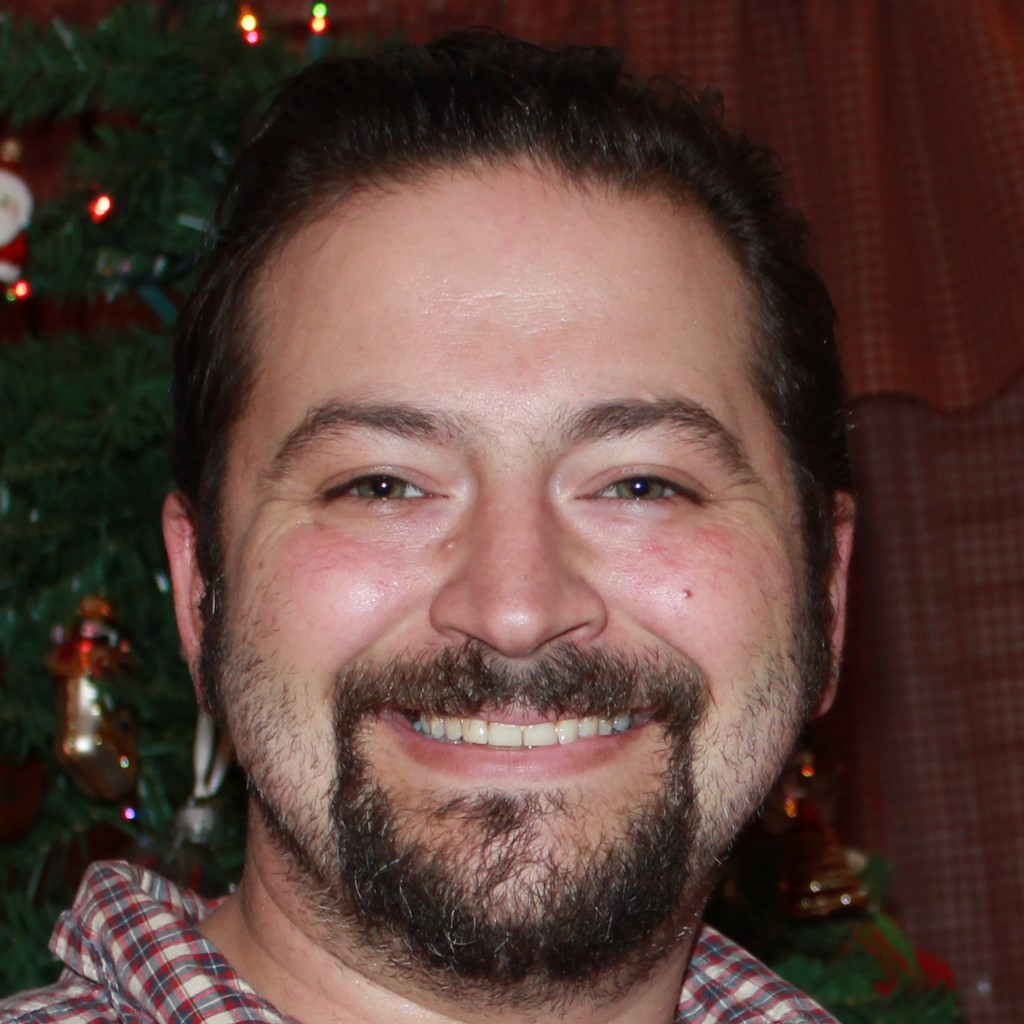sin_mascara: (210, 155, 798, 956)
